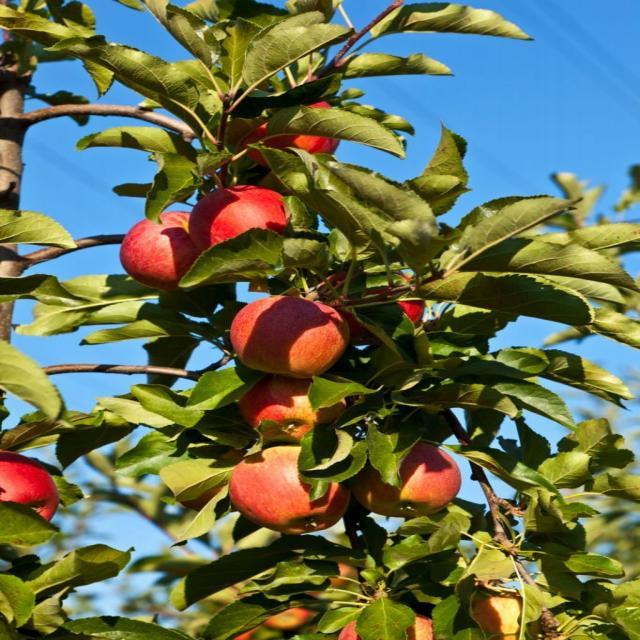Red Apple: (239, 299, 349, 377), (240, 454, 350, 525), (370, 446, 458, 511), (194, 189, 295, 244), (128, 215, 211, 281), (245, 382, 344, 437), (1, 451, 64, 525), (258, 108, 334, 153)
